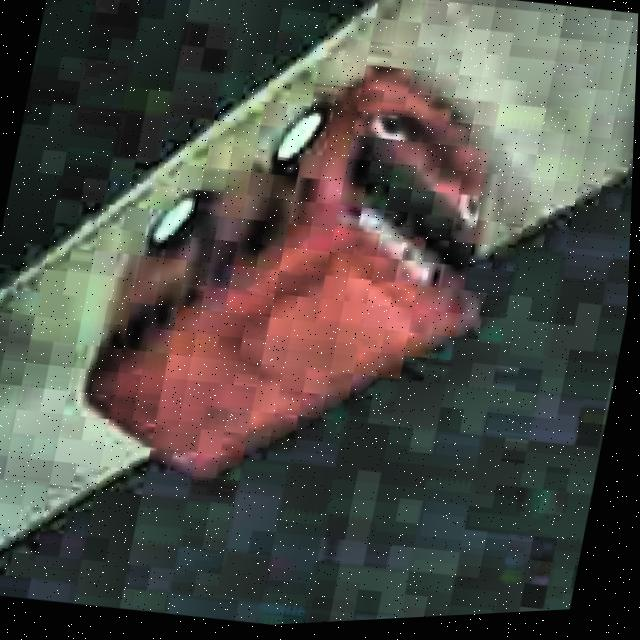bus: (67, 21, 520, 527)
